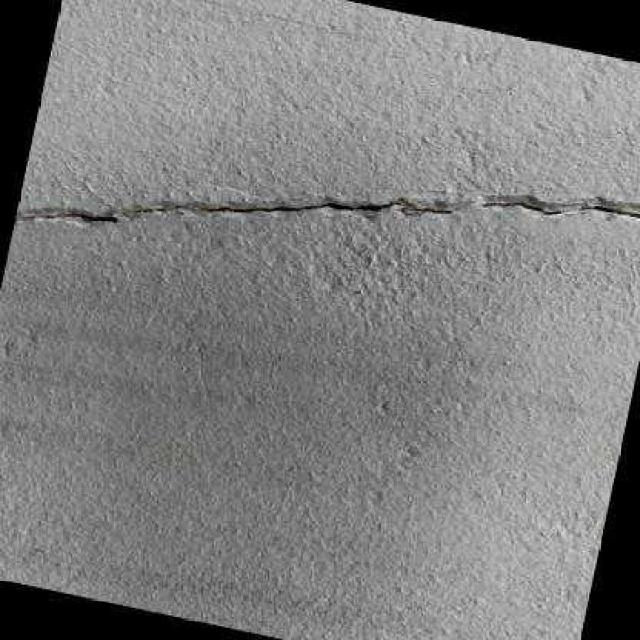D00: (479, 200, 640, 217), (199, 201, 398, 212), (15, 211, 118, 221), (402, 206, 453, 212)
